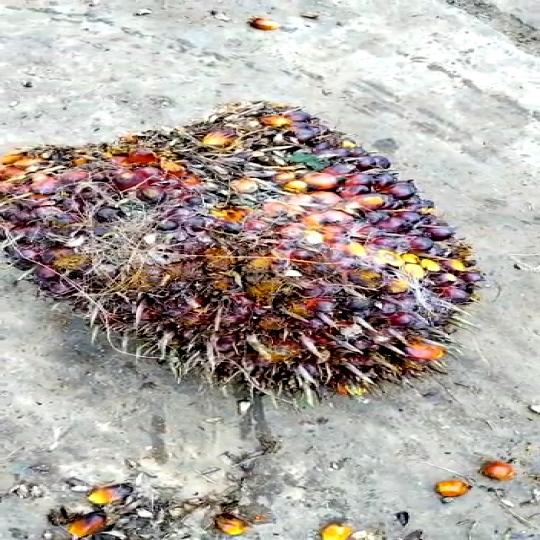masak: (0, 77, 494, 402)
